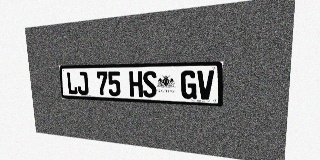5: (108, 71, 121, 96)
7: (96, 71, 109, 96)
G: (181, 70, 197, 99)
H: (129, 71, 143, 97)
J: (77, 72, 89, 95)
L: (66, 72, 78, 95)
S: (142, 71, 157, 98)
V: (197, 70, 214, 100)
